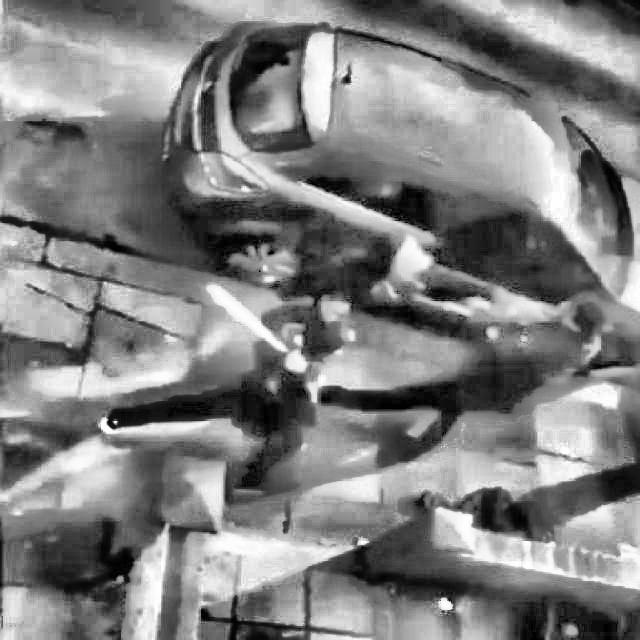robbery: (86, 279, 625, 511)
